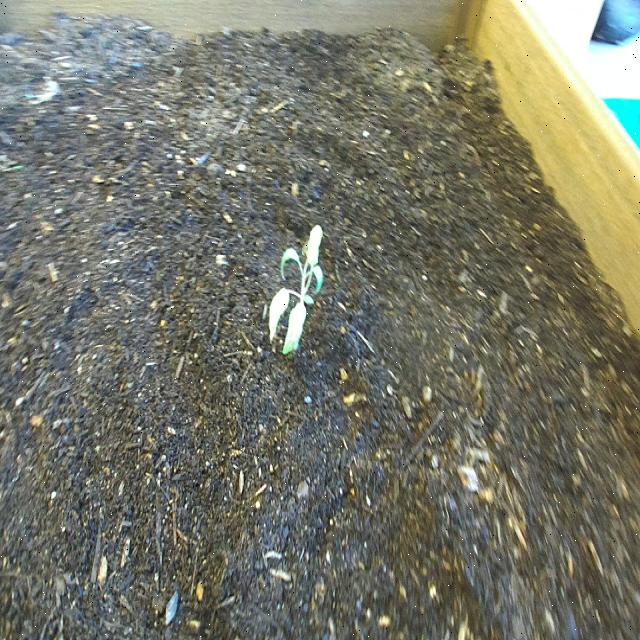Healthy: (264, 211, 330, 376)
